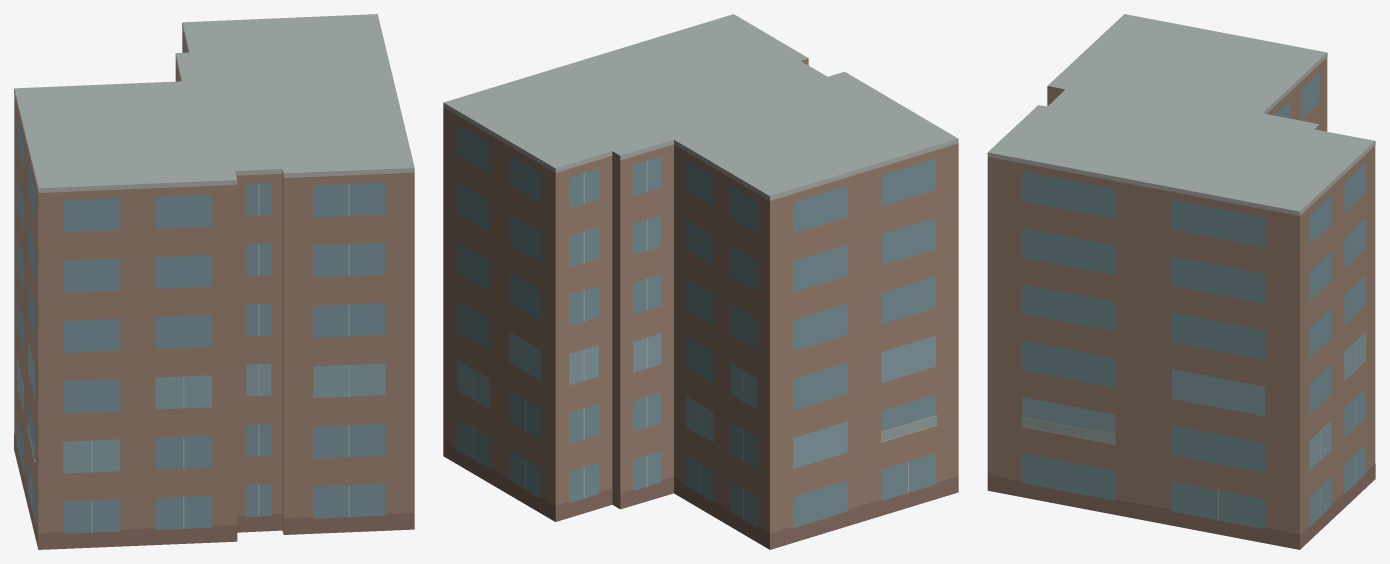
Rendered from survey-upis-32518543.glb.
The picture shows the model from 3 angles, left to right: view 1: azimuth 30°, elevation 25°; view 2: azimuth 150°, elevation 25°; view 3: azimuth 270°, elevation 25°; orthographic projection. The views are drawn at different scales.
Visible parts, largest first — view 1: survey-upis-32518543.tmp; view 2: survey-upis-32518543.tmp; view 3: survey-upis-32518543.tmp.
Boxes of the visible parts, x1=… form: survey-upis-32518543.tmp: x1=14, y1=14, x2=414, y2=549; survey-upis-32518543.tmp: x1=443, y1=14, x2=958, y2=549; survey-upis-32518543.tmp: x1=987, y1=14, x2=1375, y2=549.
Size of the model in its own units: 23.2 by 18.5 by 19.24.
